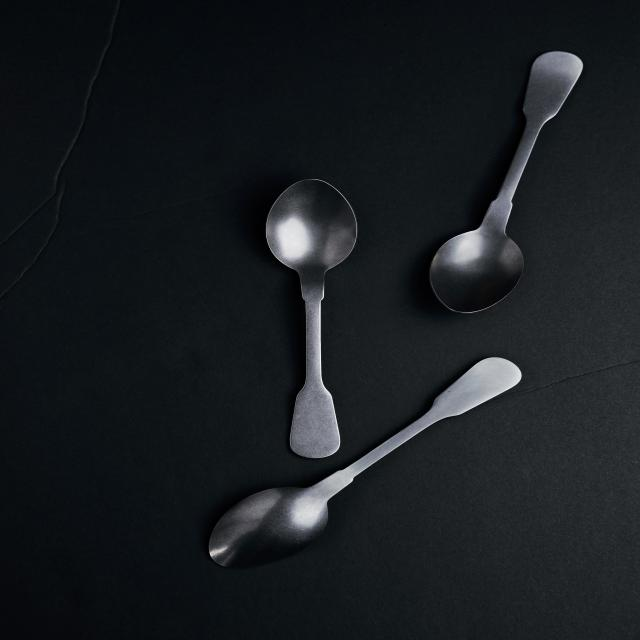Metal: (206, 358, 522, 570), (427, 52, 585, 316), (264, 178, 360, 462)
